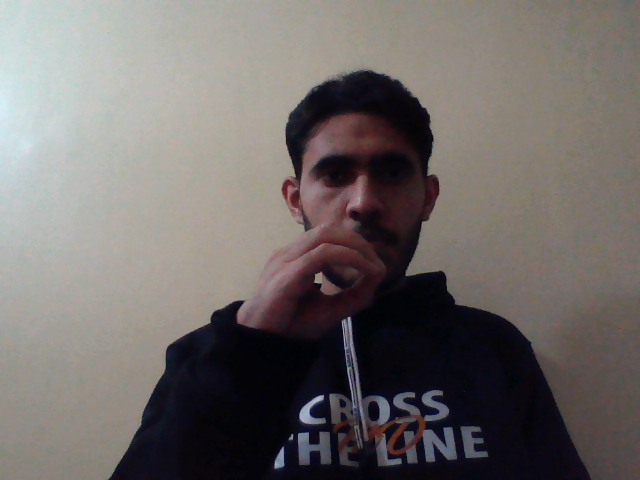O: (235, 219, 393, 347)
